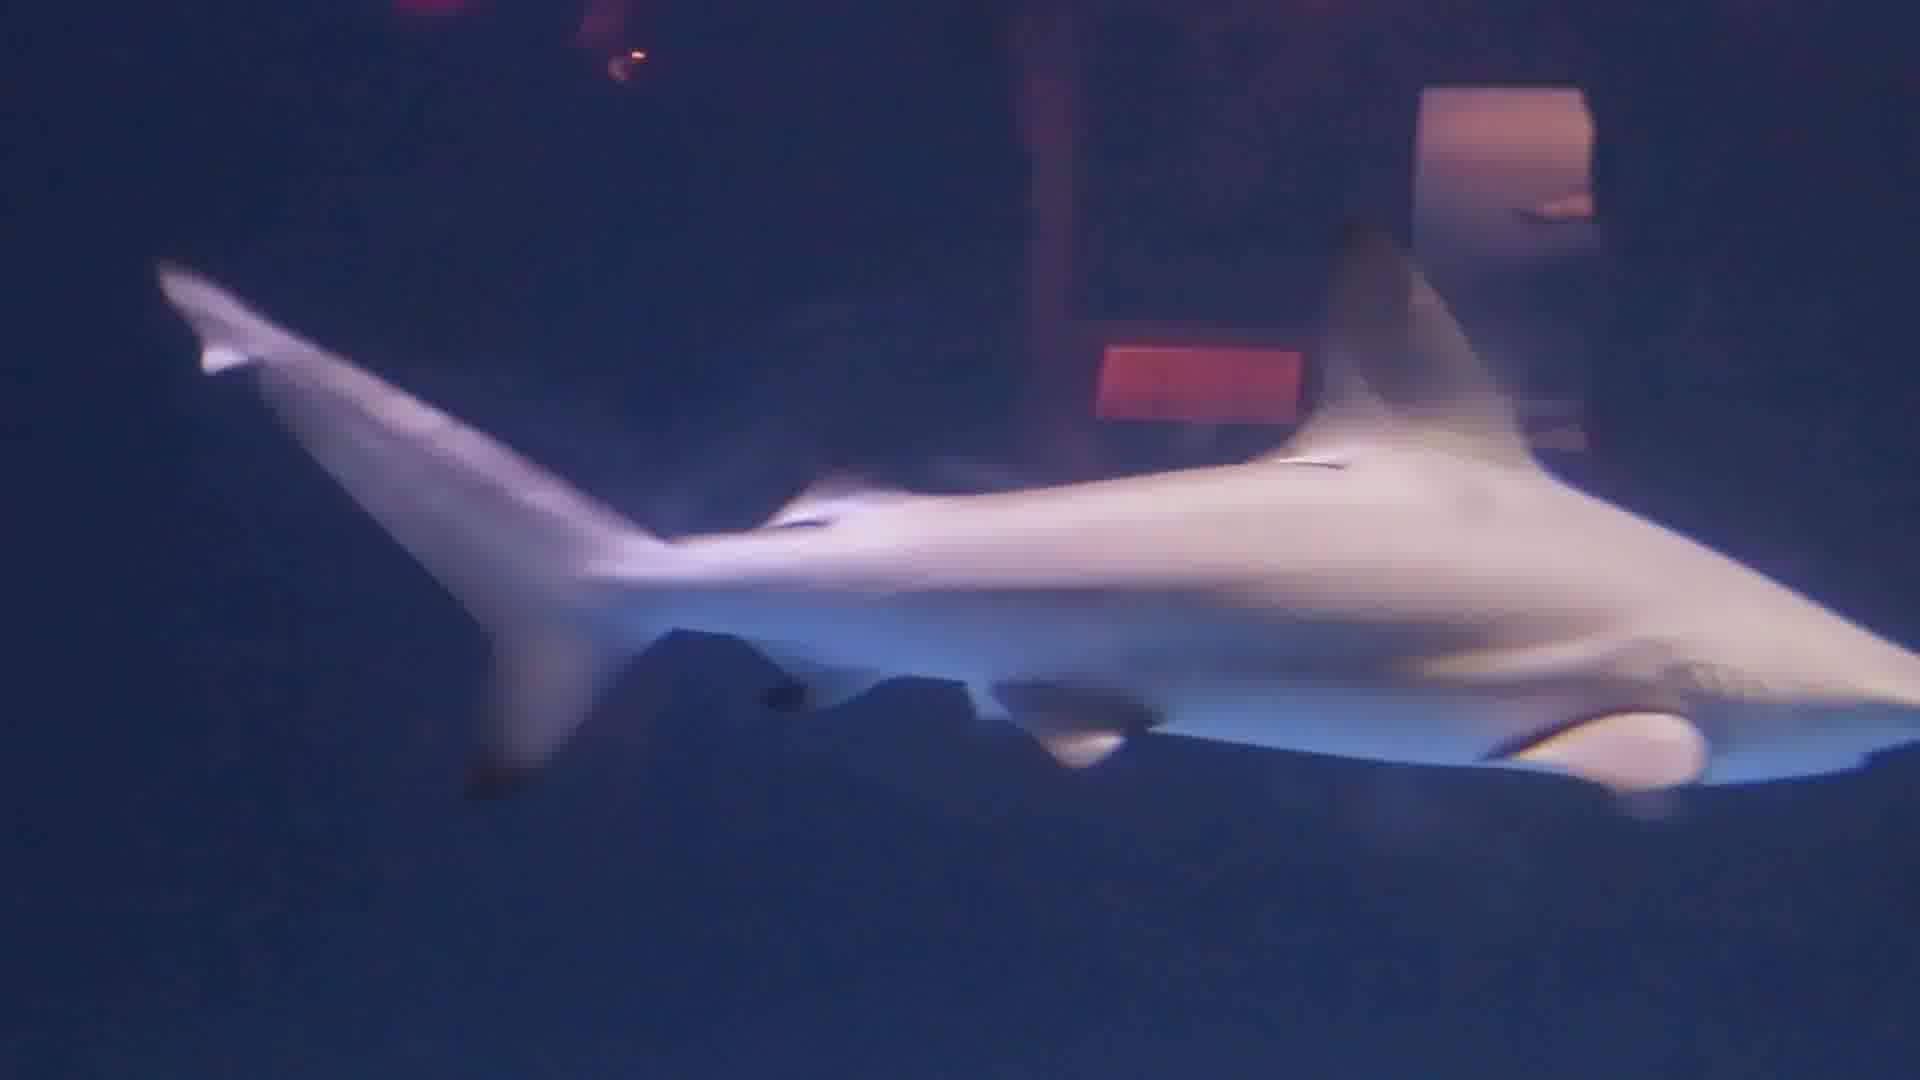Carcharhinus leucas: (181, 135, 1920, 857)
